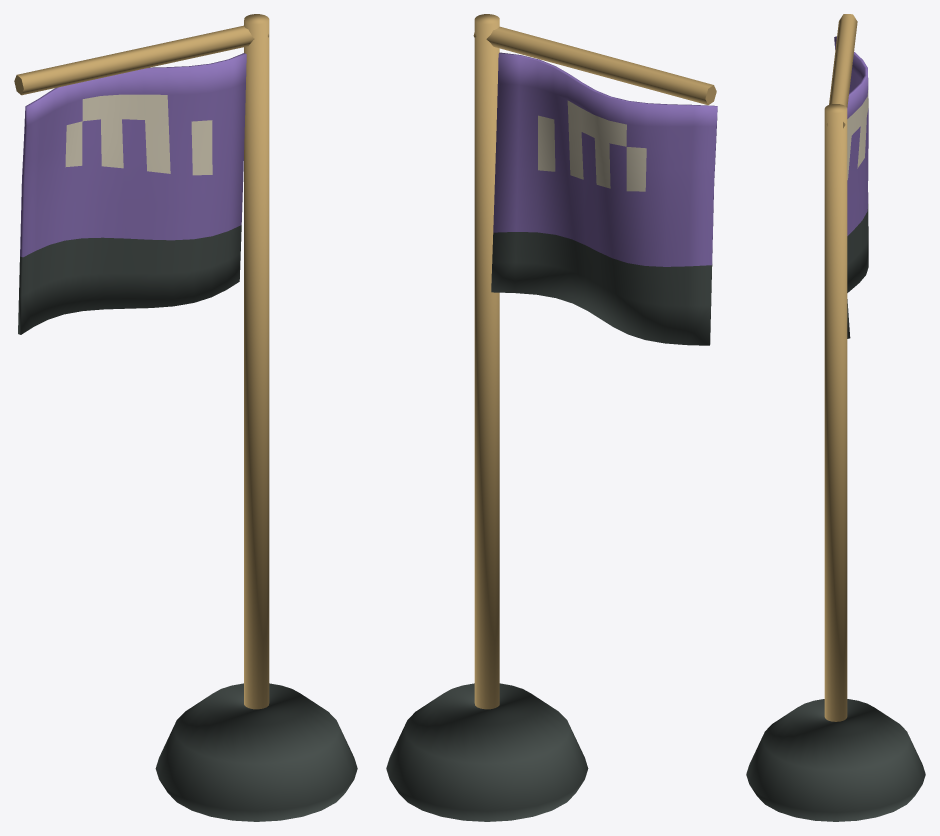
File: fanflag.moon-foxes.glb
3 renders of one model, left to right at view 1: azimuth 30°, elevation 25°; view 2: azimuth 150°, elevation 25°; view 3: azimuth 270°, elevation 25°, orthographic. The views are drawn at different scales.
Visible parts, largest first — view 1: Weighted pedestal; view 2: Weighted pedestal; view 3: Weighted pedestal.
Part boxes in pixels (x1,y1,x2,y2): Weighted pedestal: [14, 14, 357, 821]; Weighted pedestal: [386, 14, 717, 821]; Weighted pedestal: [746, 14, 925, 821].
Bounding box in the file's own units: 0.8011 × 1.84 × 0.44.
